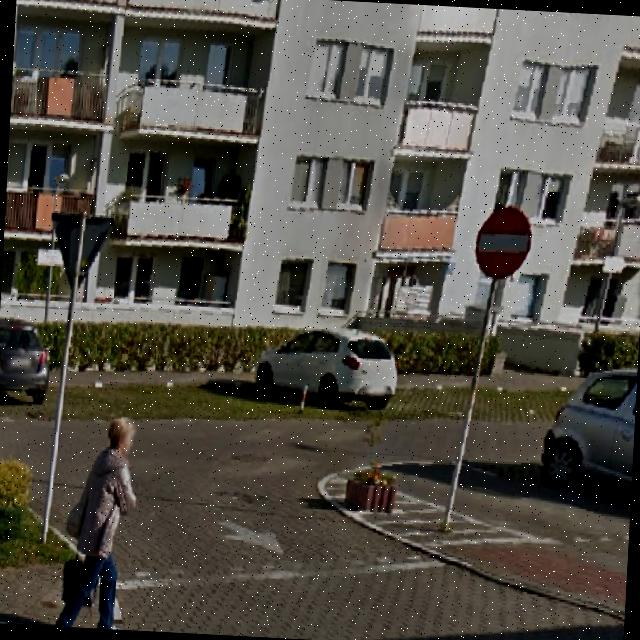Zakaz wjazdu: (476, 204, 530, 280)
